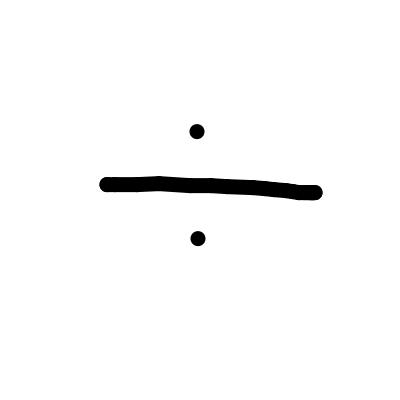div: (100, 124, 324, 249)
